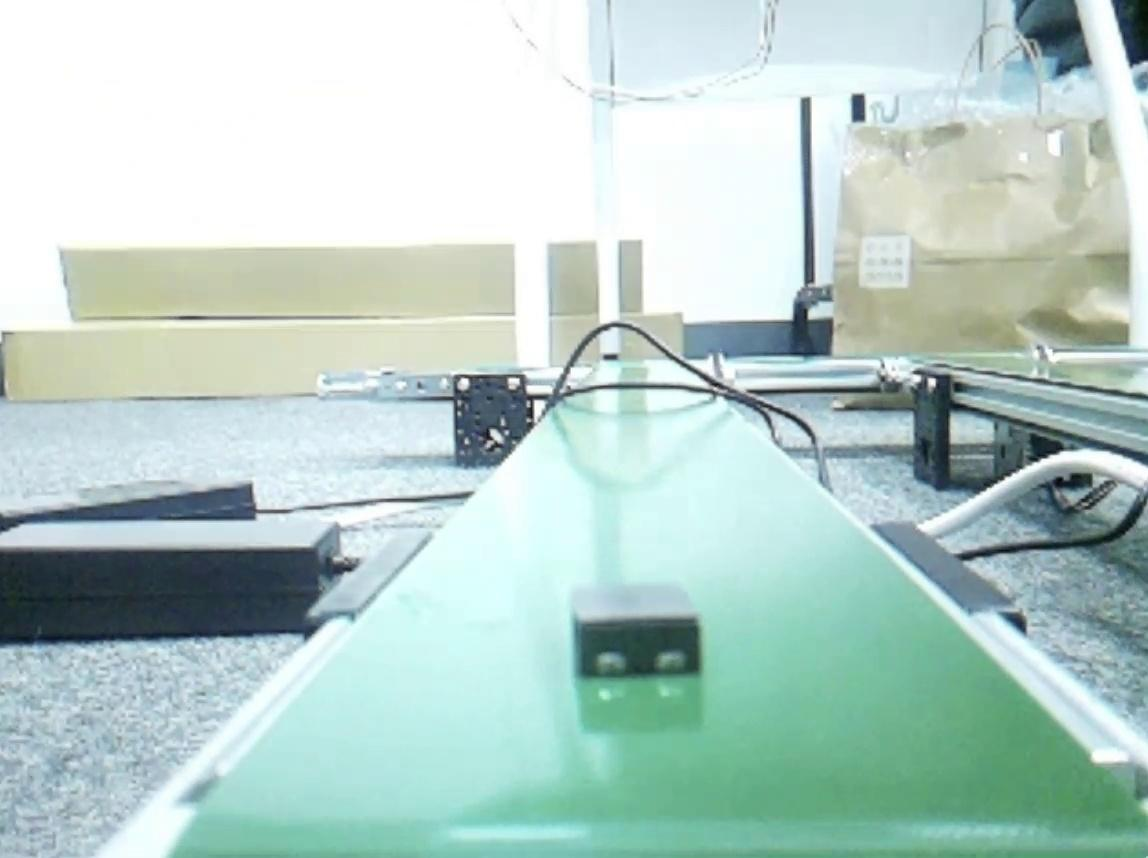inductor: (570, 580, 704, 673)
